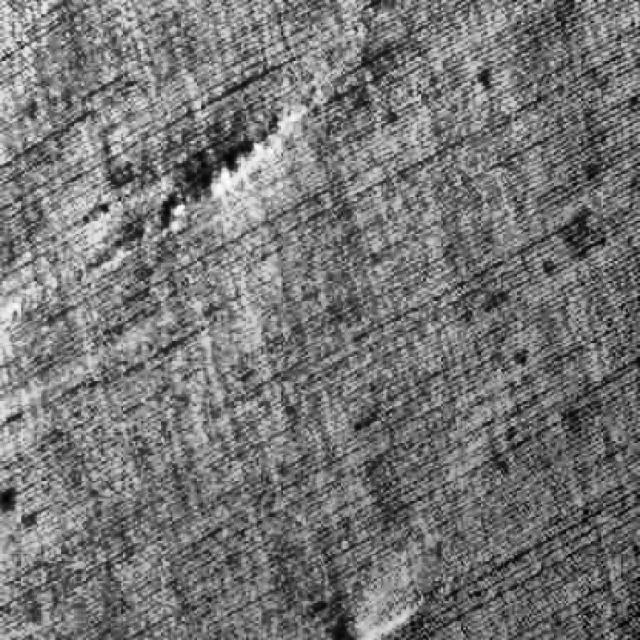thread_error: (48, 80, 335, 294)
